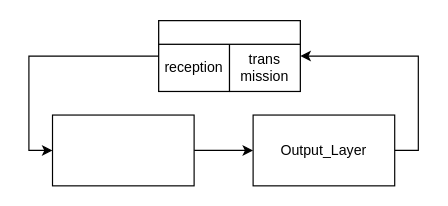
Some shapes in this 448 by 206 pixel diagram are drawn without their labels. Each missing label, with the centre of its shape:
Hidden_Layer: point 122,150
UART: point 229,31
